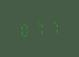seven: (33, 20, 46, 36), (47, 19, 60, 35)
zero: (18, 21, 31, 37)
